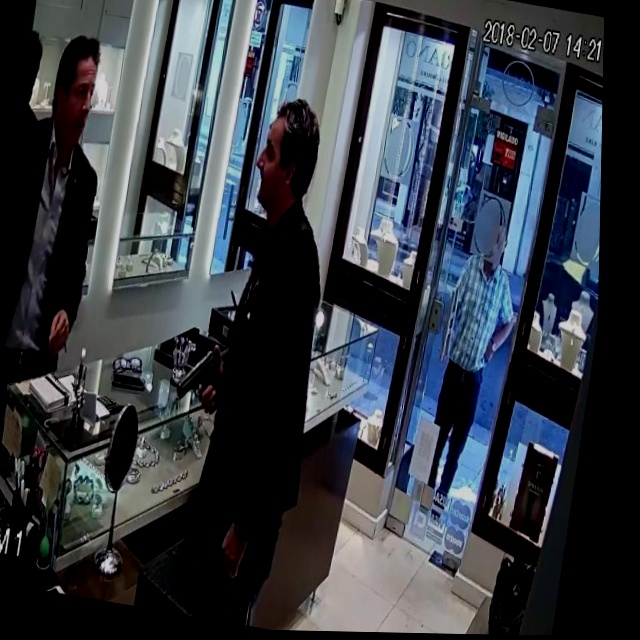gun: (160, 324, 231, 438)
